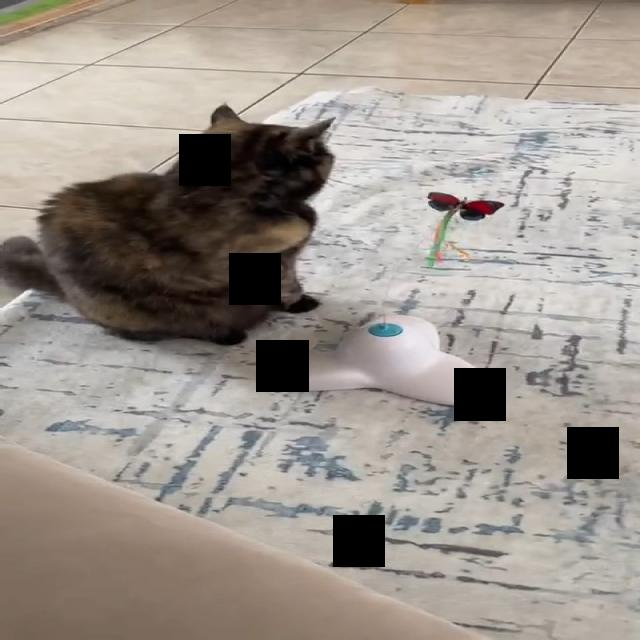authorized: (0, 102, 337, 346)
